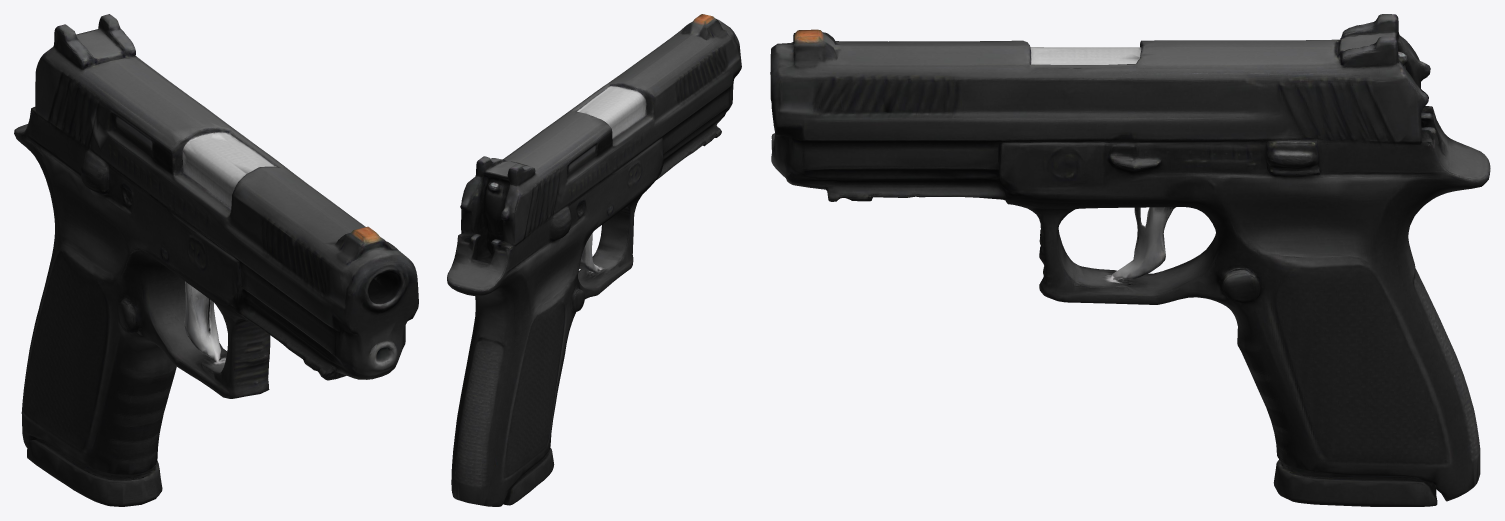
Rendered from asset.glb.
3 renders of one model, left to right at view 1: azimuth 30°, elevation 25°; view 2: azimuth 150°, elevation 25°; view 3: azimuth 270°, elevation 25°, orthographic. The views are drawn at different scales.
Visible parts, largest first — view 1: world; view 2: world; view 3: world.
Boxes of the visible parts, left/top/right/bottom form: world: left=14, top=14, right=418, bottom=506; world: left=447, top=14, right=741, bottom=506; world: left=770, top=14, right=1490, bottom=506.
Size of the model in its own units: 0.159 by 0.7098 by 1.
1 material, 1 textured.
